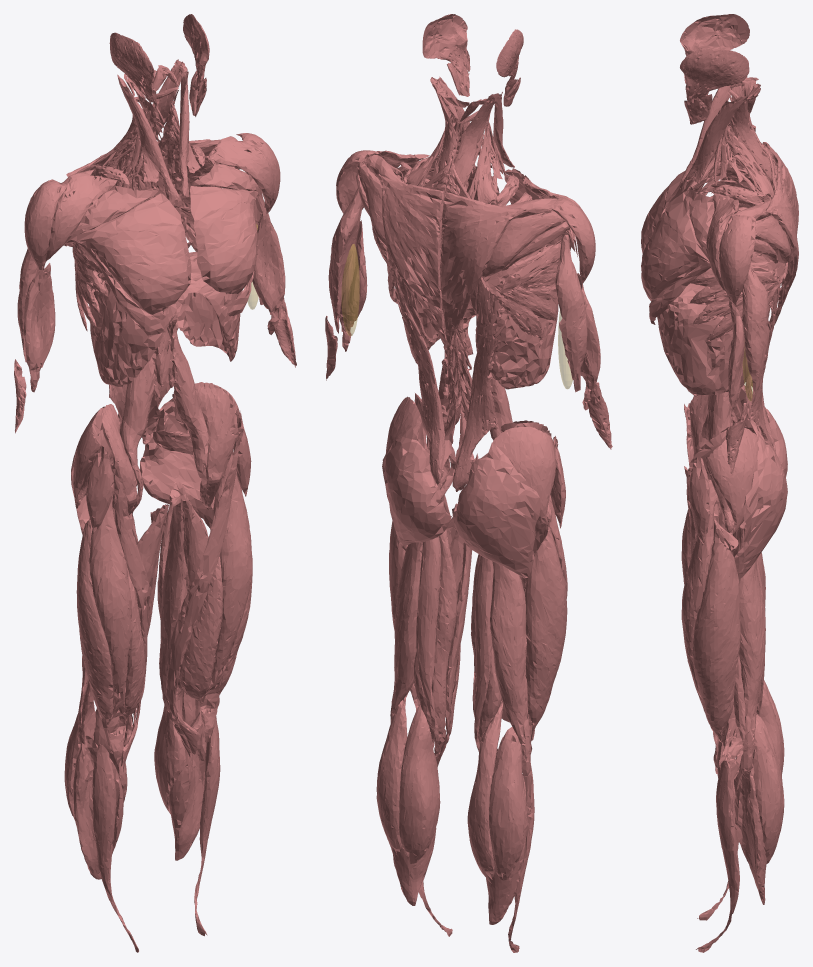
Rendered from TrP_Muscles_web.glb.
3 views of the same model, side by side, from view 1: azimuth 30°, elevation 25°; view 2: azimuth 150°, elevation 25°; view 3: azimuth 270°, elevation 25° (orthographic). The views are drawn at different scales.
Parts seen in each view (by area): view 1: Diaphragm, Sternocostal_head_of_pectoralis_major_muscle.r, Sternocostal_head_of_pectoralis_major_muscle.l, Rectus_femoris_muscle.r, Rectus_femoris_muscle.l, Sartorius_muscle.l, Vastus_lateralis_muscle.r, Gluteus_maximus_muscle.l, Vastus_medialis_muscle.l, Soleus_muscle.l, Iliacus_muscle.l, Gracilis_muscle.l (+40 smaller); view 2: Gluteus_maximus_muscle.r, Descending_part_of_trapezius_muscle.l, Descending_part_of_trapezius_muscle.r, Vastus_lateralis_muscle.r, Long_head_of_biceps_femoris_muscle.r, Gluteus_maximus_muscle.l, Medial_head_of_gastrocnemius.l, Diaphragm, Lateral_head_of_gastrocnemius.r, Serratus_anterior_muscle.r, Iliocostalis_lumborum_muscle.r, Semimembranosus_muscle.l (+40 smaller); view 3: Vastus_lateralis_muscle.l, Diaphragm, Sternocostal_head_of_pectoralis_major_muscle.l, Gluteus_maximus_muscle.l, Long_head_of_biceps_femoris_muscle.l, Serratus_anterior_muscle.l, Lateral_head_of_gastrocnemius.l, Rectus_femoris_muscle.l, Gluteus_medius_muscle.l, Temporalis_muscle.l, Lateral_head_of_triceps_brachii_muscle.l, Soleus_muscle.l (+33 smaller).
Part boxes in pixels (box(x1,y1,x2,y2)): Diaphragm: box(89, 252, 242, 386); Sternocostal_head_of_pectoralis_major_muscle.r: box(66, 193, 191, 314); Sternocostal_head_of_pectoralis_major_muscle.l: box(190, 186, 259, 294); Rectus_femoris_muscle.r: box(89, 476, 131, 764); Rectus_femoris_muscle.l: box(200, 453, 252, 742); Sartorius_muscle.l: box(166, 428, 243, 754); Vastus_lateralis_muscle.r: box(76, 518, 113, 753); Gluteus_maximus_muscle.l: box(139, 398, 214, 529); Vastus_medialis_muscle.l: box(179, 556, 222, 731); Soleus_muscle.l: box(168, 713, 206, 860); Iliacus_muscle.l: box(195, 382, 238, 510); Gracilis_muscle.l: box(159, 500, 190, 756); Gluteus_maximus_muscle.r: box(452, 442, 540, 581); Descending_part_of_trapezius_muscle.l: box(378, 173, 447, 349); Descending_part_of_trapezius_muscle.r: box(441, 191, 525, 353); Vastus_lateralis_muscle.r: box(525, 522, 567, 740); Long_head_of_biceps_femoris_muscle.r: box(490, 561, 532, 776); Gluteus_maximus_muscle.l: box(382, 422, 451, 550); Medial_head_of_gastrocnemius.l: box(398, 704, 440, 863); Diaphragm: box(403, 283, 558, 389); Lateral_head_of_gastrocnemius.r: box(488, 727, 526, 880); Serratus_anterior_muscle.r: box(482, 175, 559, 339); Iliocostalis_lumborum_muscle.r: box(452, 296, 505, 491); Semimembranosus_muscle.l: box(414, 529, 457, 749); Vastus_lateralis_muscle.l: box(692, 520, 740, 767); Diaphragm: box(657, 268, 749, 395); Sternocostal_head_of_pectoralis_major_muscle.l: box(641, 189, 709, 300); Gluteus_maximus_muscle.l: box(734, 432, 787, 579); Long_head_of_biceps_femoris_muscle.l: box(739, 560, 765, 771); Serratus_anterior_muscle.l: box(690, 184, 785, 352); Lateral_head_of_gastrocnemius.l: box(752, 720, 784, 863); Rectus_femoris_muscle.l: box(681, 478, 718, 774); Gluteus_medius_muscle.l: box(705, 428, 757, 534); Temporalis_muscle.l: box(680, 48, 749, 100); Lateral_head_of_triceps_brachii_muscle.l: box(742, 266, 769, 404); Soleus_muscle.l: box(734, 764, 766, 904).
Bounding box in the file's own units: 0.5245 × 1.62 × 0.2559.
